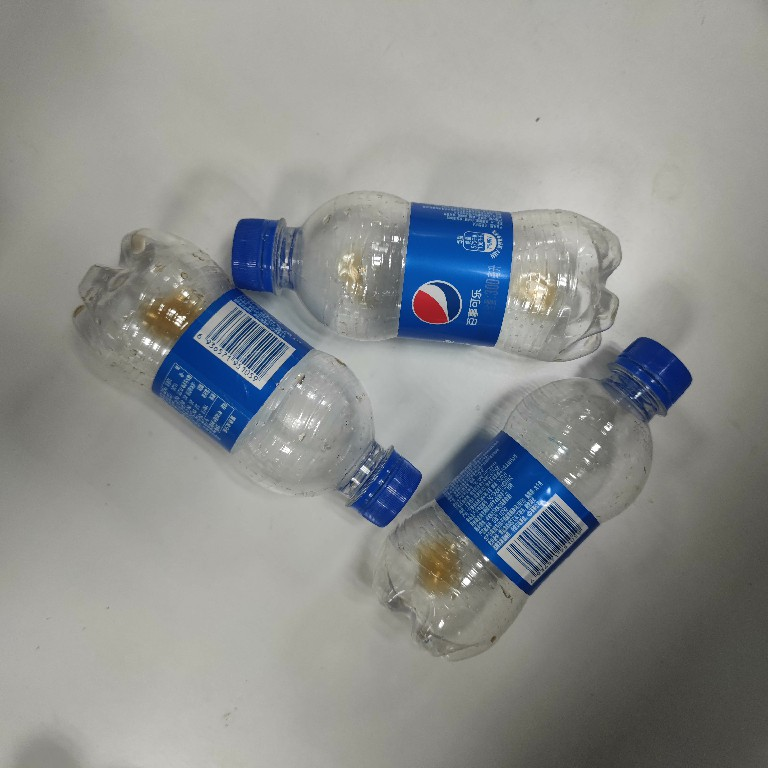bottle: (66, 224, 429, 532), (372, 334, 696, 667), (226, 185, 625, 366)
